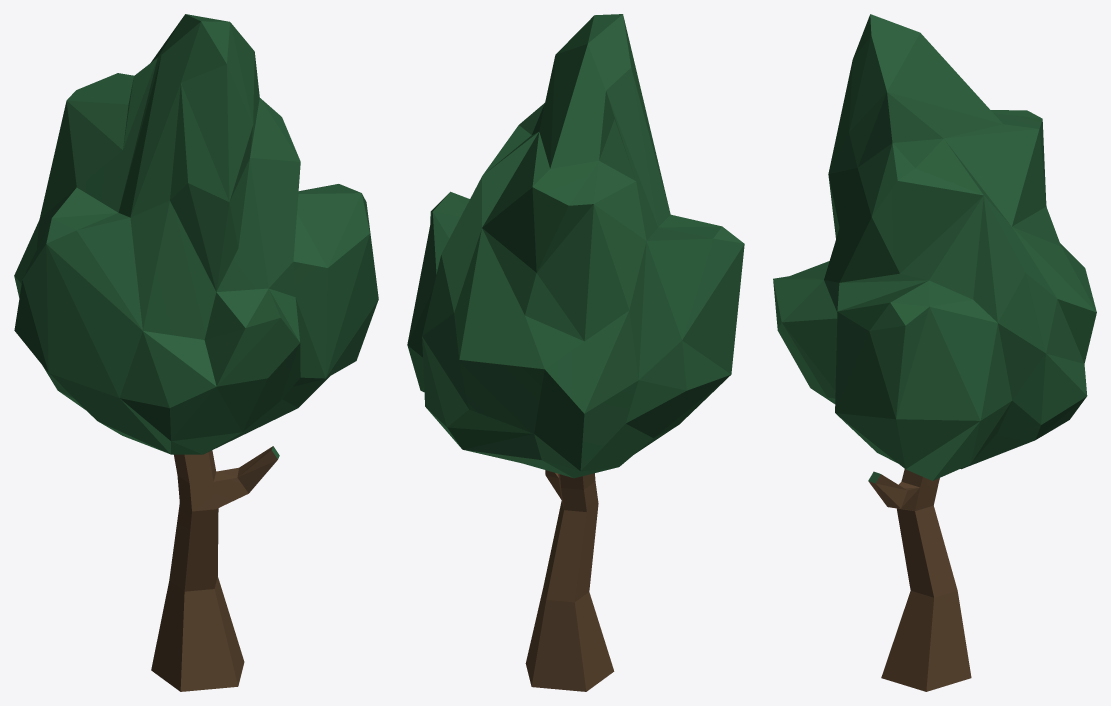
File: tree2.fbx
3 views of the same model, side by side, from view 1: azimuth 30°, elevation 25°; view 2: azimuth 150°, elevation 25°; view 3: azimuth 270°, elevation 25° (orthographic). The views are drawn at different scales.
Parts seen in each view (by area): view 1: polySurface941; view 2: polySurface941; view 3: polySurface941.
Part boxes in pixels (<box>): polySurface941: <box>14,14,378,691</box>; polySurface941: <box>407,14,744,691</box>; polySurface941: <box>773,14,1096,691</box>.
Bounding box in the file's own units: 318 × 621 × 283.
